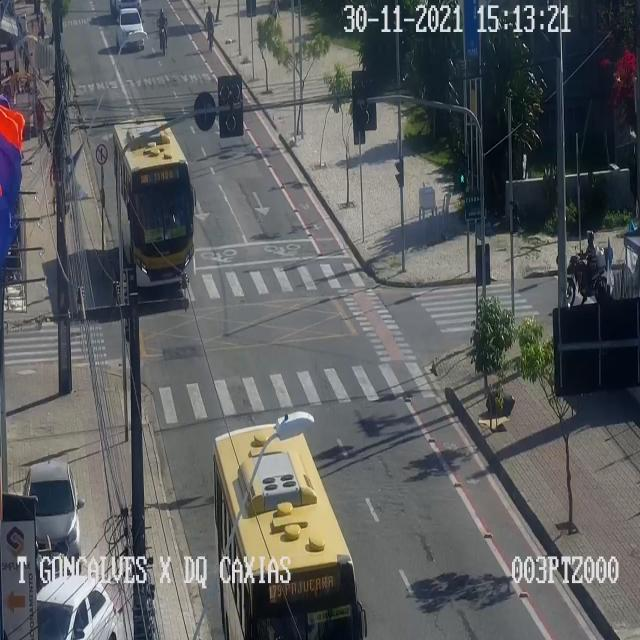Bus: (214, 423, 360, 639), (113, 114, 195, 286)
Car: (24, 462, 80, 572), (36, 574, 117, 639), (115, 7, 144, 48), (107, 0, 146, 17)
Motorcycle: (566, 230, 607, 306), (156, 8, 168, 54)
